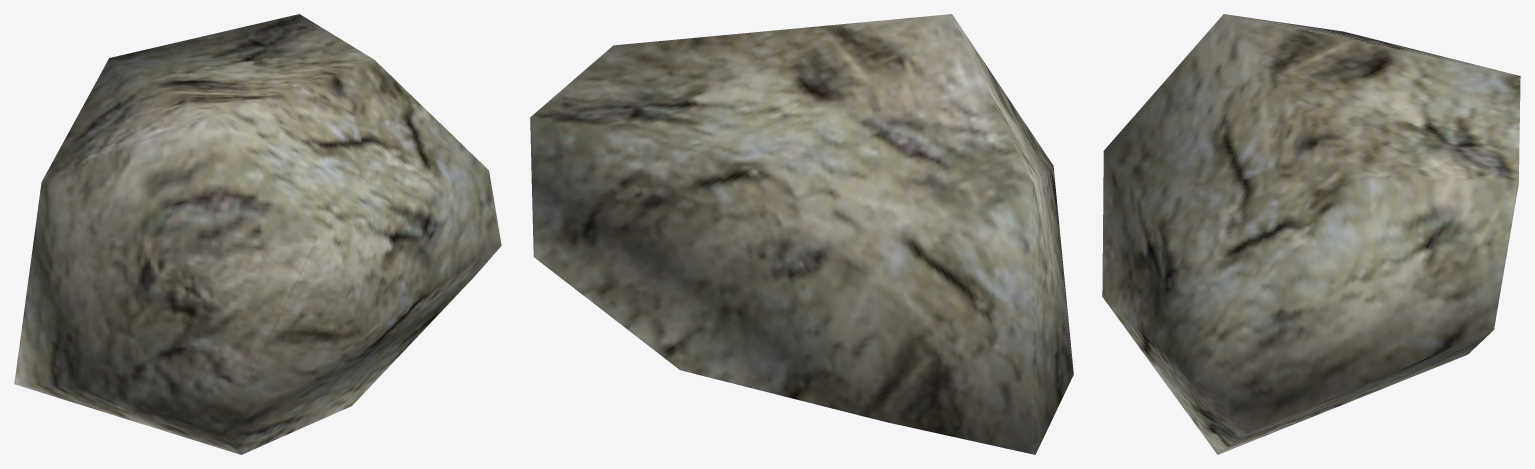
The model's file is rock.FBX.
3 views of the same model, side by side, from view 1: azimuth 30°, elevation 25°; view 2: azimuth 150°, elevation 25°; view 3: azimuth 270°, elevation 25° (orthographic). The views are drawn at different scales.
Visible parts, largest first — view 1: rock_low; view 2: rock_low; view 3: rock_low.
Part boxes in pixels (box(x1,y1,x2,y2)): rock_low: box(14, 14, 501, 454); rock_low: box(530, 14, 1073, 454); rock_low: box(1102, 14, 1520, 454).
Size of the model in its own units: 4.31 by 3.24 by 3.26.
